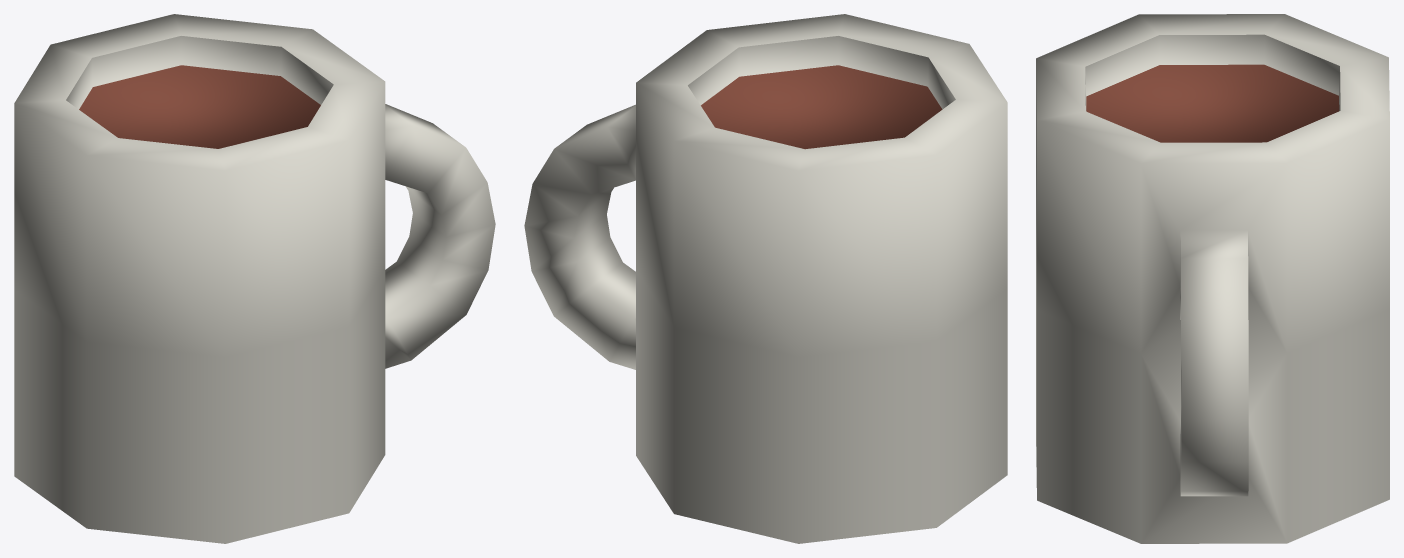
Rendered from OBJ_Cup.glb.
3 views of the same model, side by side, from view 1: azimuth 30°, elevation 25°; view 2: azimuth 150°, elevation 25°; view 3: azimuth 270°, elevation 25° (orthographic). The views are drawn at different scales.
Visible parts, largest first — view 1: Cylinder.002; view 2: Cylinder.002; view 3: Cylinder.002.
Boxes of the visible parts, x1,y1,x2,y2 form: Cylinder.002: (14,14,495,543); Cylinder.002: (524,14,1007,543); Cylinder.002: (1036,14,1389,543).
Size of the model in its own units: 0.3133 by 0.2595 by 0.2188.
